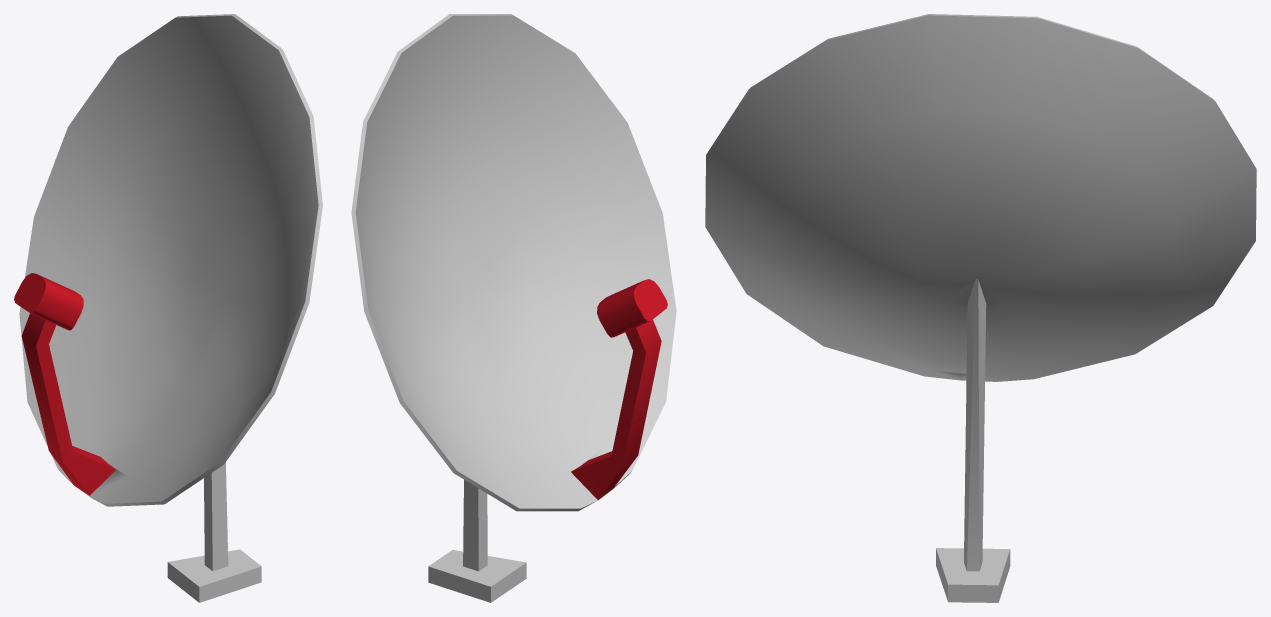
The model's file is FBX_Satellite_Dish_B.fbx.
3 renders of one model, left to right at view 1: azimuth 30°, elevation 25°; view 2: azimuth 150°, elevation 25°; view 3: azimuth 270°, elevation 25°, orthographic. The views are drawn at different scales.
Visible parts, largest first — view 1: Satellite_Dish_B; view 2: Satellite_Dish_B; view 3: Satellite_Dish_B.
Boxes of the visible parts, bbox=[...] form: Satellite_Dish_B: bbox=[14, 14, 322, 602]; Satellite_Dish_B: bbox=[351, 14, 676, 602]; Satellite_Dish_B: bbox=[705, 14, 1256, 602].
Size of the model in its own units: 1.31 by 2.77 by 2.33.
